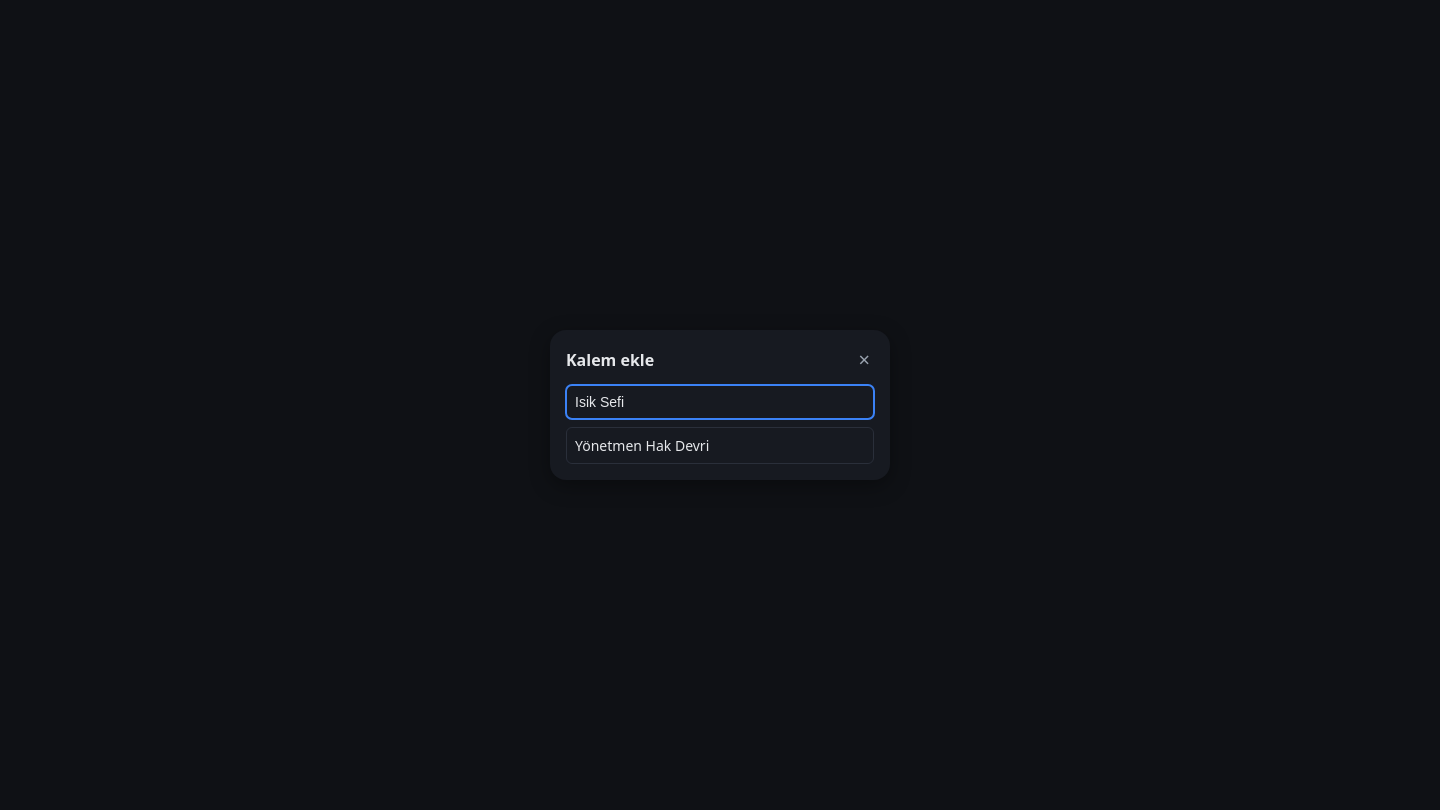
Test: Kime? zimba (1500 Dilim 2a-3b) › anchorRowsFor bos donerse baglanacak satir yok yazisi gorunur
This screenshot has width=1440, height=810.
Click the button "Yönetmen Hak Devri" at (642, 446), box x1=567 y1=428 x2=873 y2=463
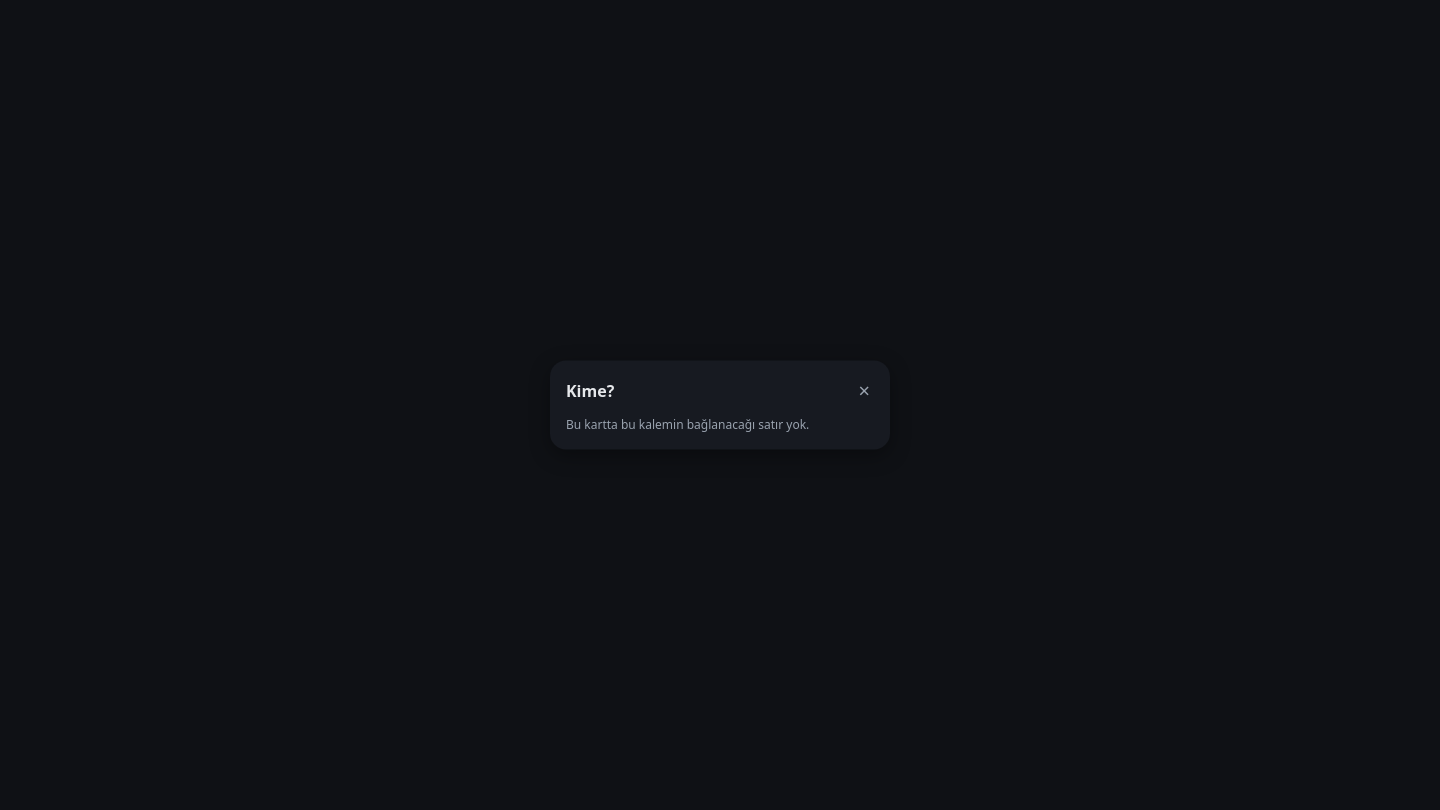
Expected: the dialog shows "Bu kartta bu kalemin bağlanacağı satır yok.", x1=566 y1=416 x2=809 y2=432
